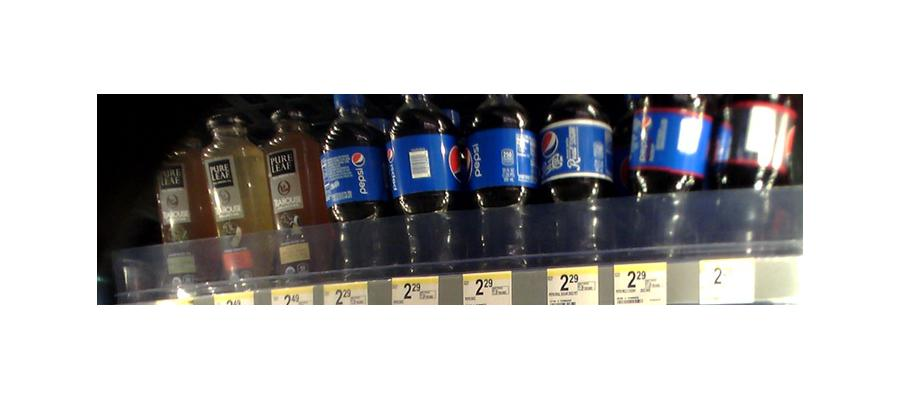bottle: (712, 86, 804, 254), (537, 95, 620, 258), (626, 92, 711, 250), (389, 93, 463, 271), (323, 93, 387, 273), (465, 95, 534, 261), (206, 112, 270, 286), (266, 109, 322, 282), (156, 135, 212, 298)
